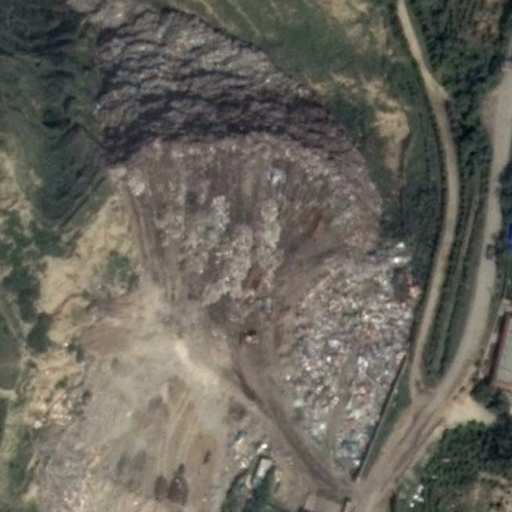msw: (99, 10, 418, 471)
